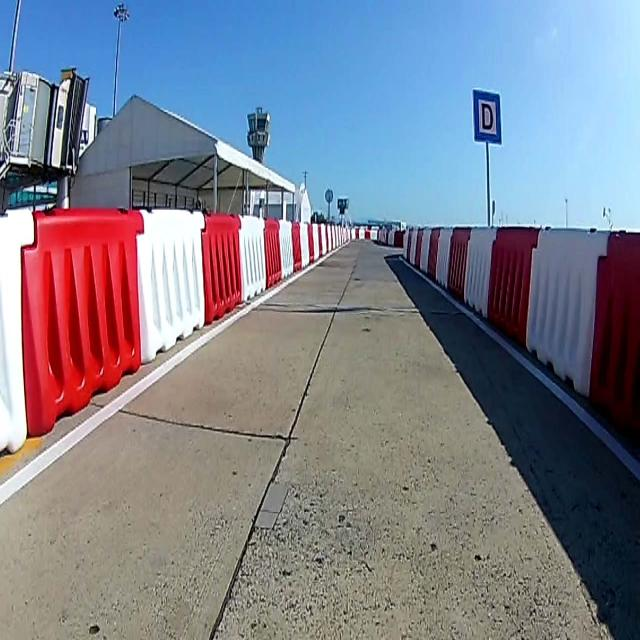durak: (472, 88, 502, 144)
